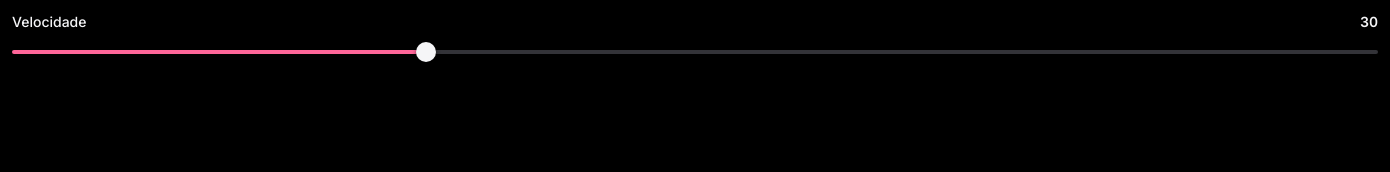
Scenario: Slider com valor padrão › toque duplo volta ao valor padrão
Double-click the slider labelled "Velocidade" at (695, 52), box top-left (12, 40), bottom-right (1378, 64)
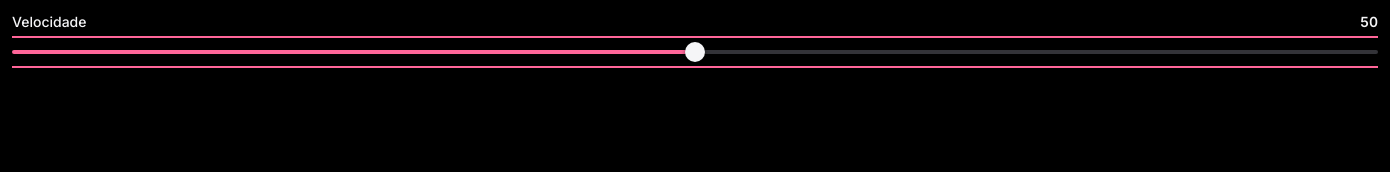
Expected: the slider labelled "Velocidade" holds "50", top-left (12, 40), bottom-right (1378, 64)
